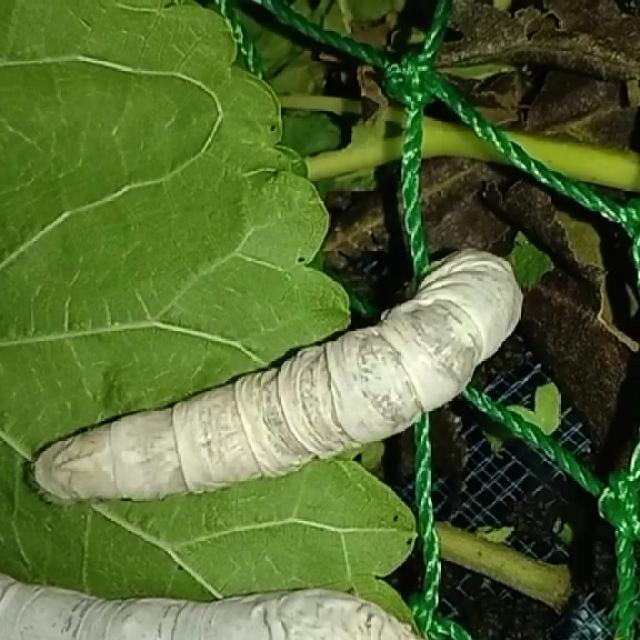Grasserie: (22, 199, 534, 564)
